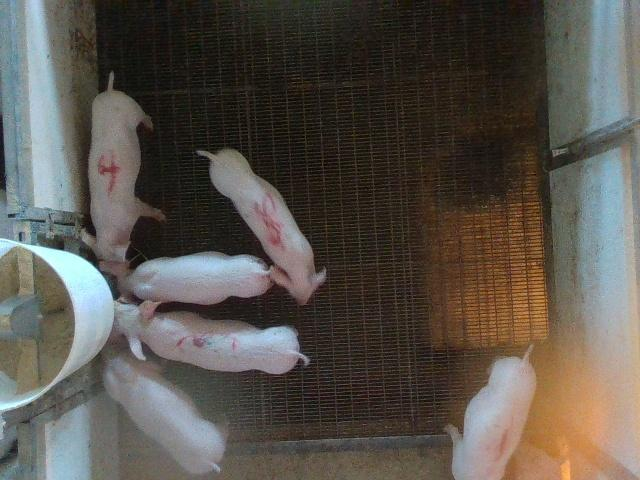pig-1: (446, 350, 536, 479)
pig-3: (114, 301, 310, 374)
pig-4: (88, 74, 165, 271)
pig-5: (198, 149, 325, 304)
